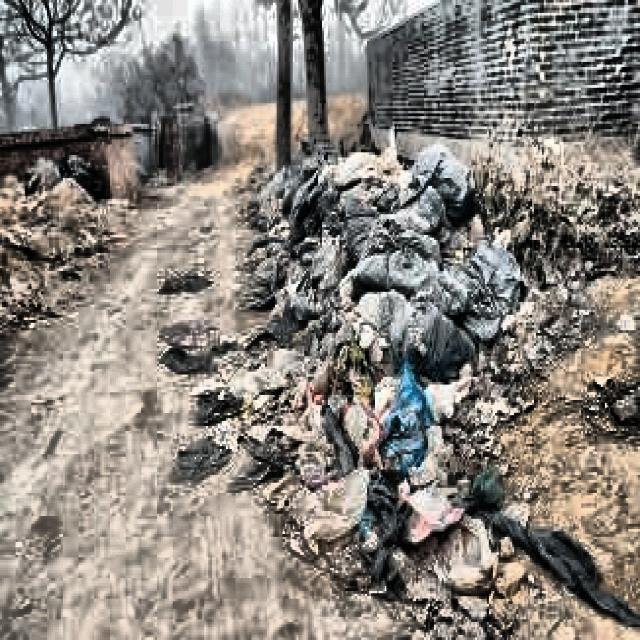garbage: (255, 155, 481, 560), (448, 457, 636, 619), (159, 271, 228, 475), (234, 170, 263, 493)
